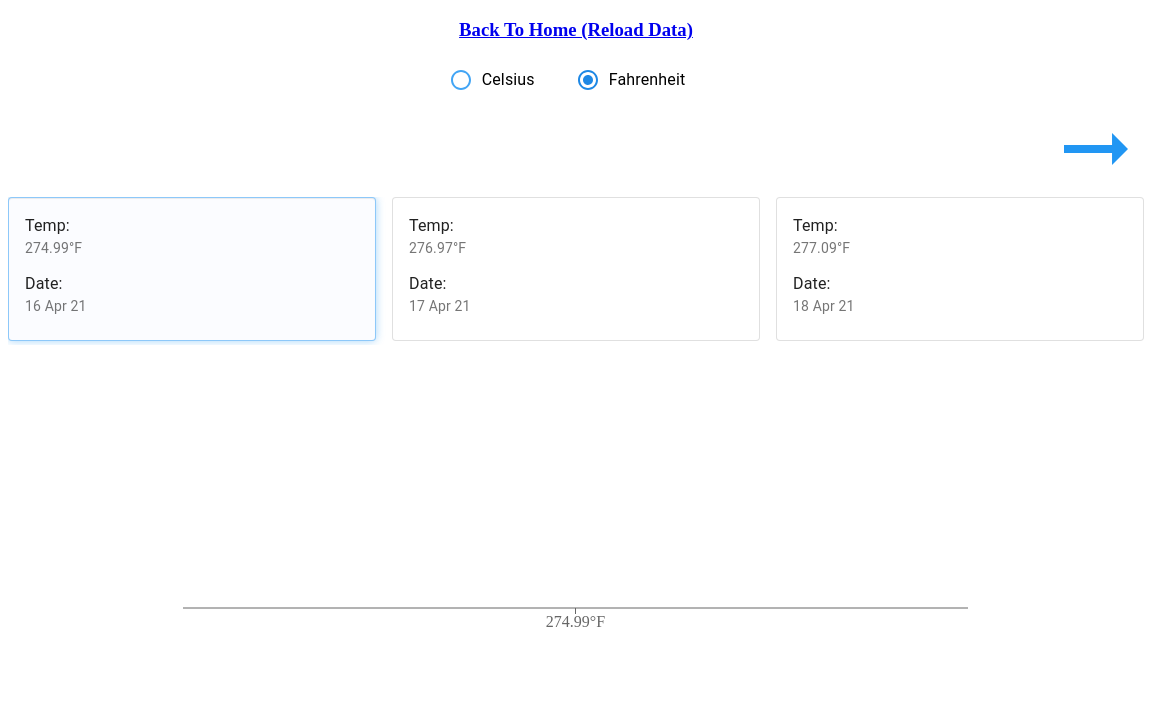
Test case: Weather Info Page › should should change the temperature to Celcius when Celcius radio button is clicked
The image size is (1152, 720).
Step 1. Click the text "Celsius" → [508, 80], box [482,68,535,92]
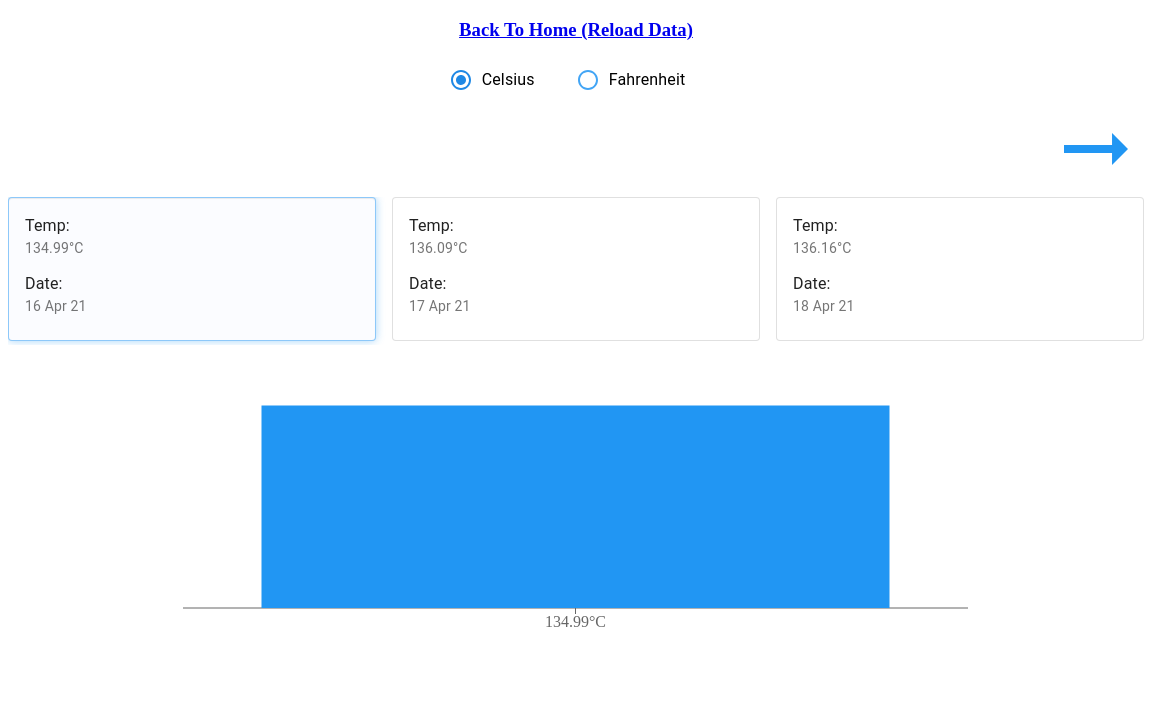
Expected: the text "134.99°C" is shown, [25,240,84,256]
